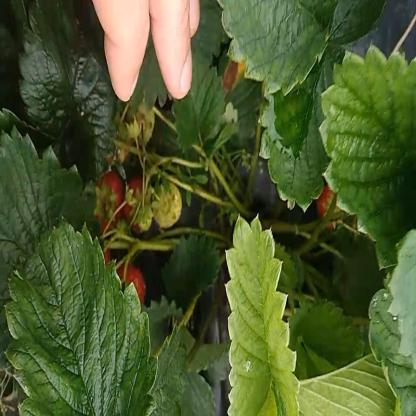ripe: (315, 178, 344, 235), (95, 167, 124, 223), (126, 178, 152, 233), (120, 262, 148, 302), (94, 234, 116, 280)
unripe: (152, 179, 183, 229)
